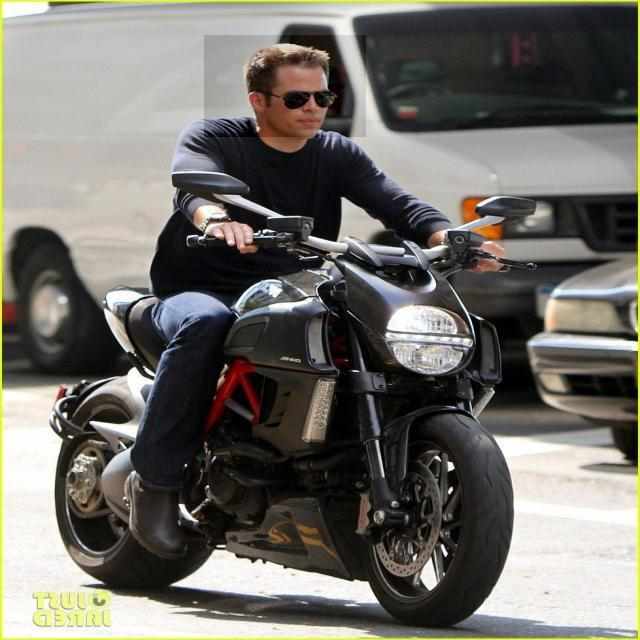No_Helmet: (204, 35, 366, 137)
